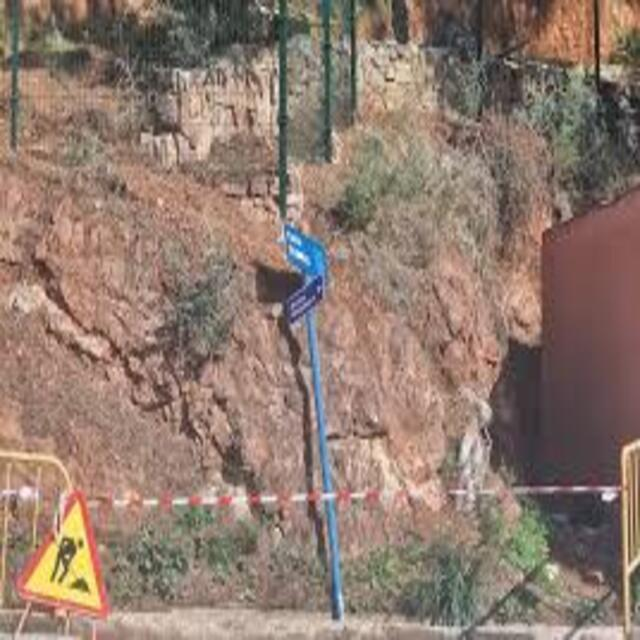Inclined Pole: (260, 222, 370, 626)
